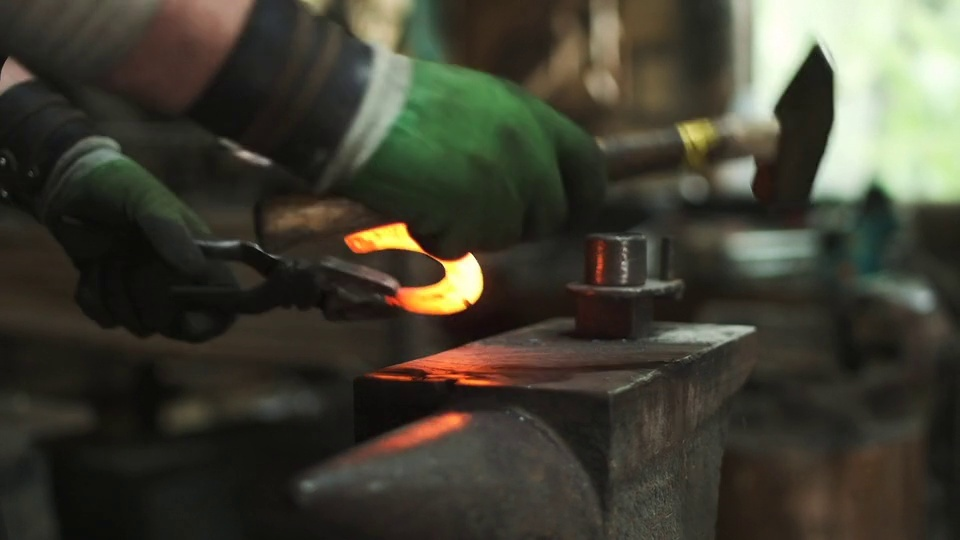hammer: (251, 37, 837, 256)
